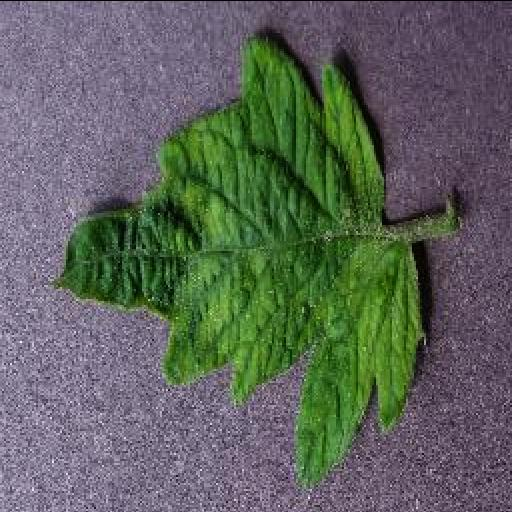disease_tomato: (48, 38, 424, 492)
